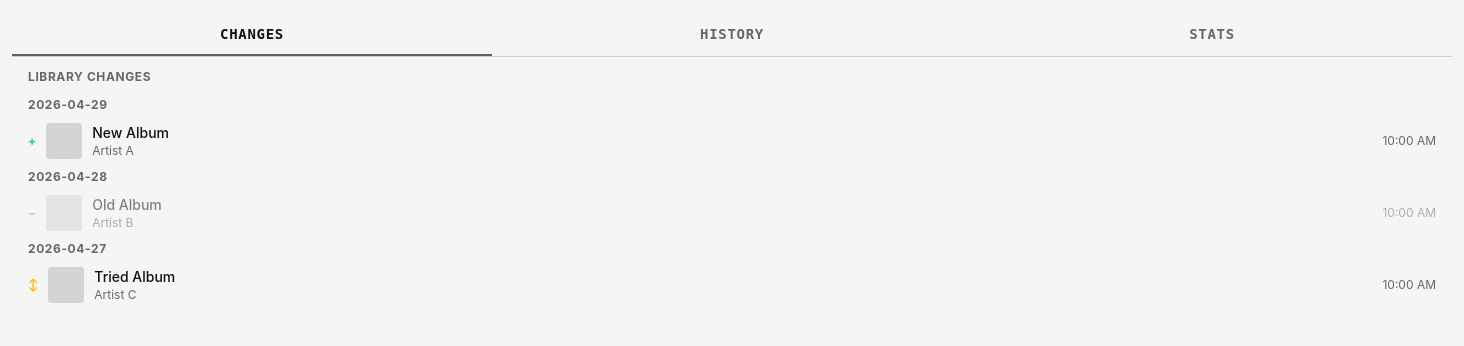
Test case: DigestView › renders tab switcher on narrow viewport
Expected: the tab "Changes" is shown, [12,12,492,56]
Expected: the tab "Stats" is shown, [972,12,1452,56]
Note: Switch to history tab
Step 1. Click the tab "History" → (732, 34), box [492,12,972,56]
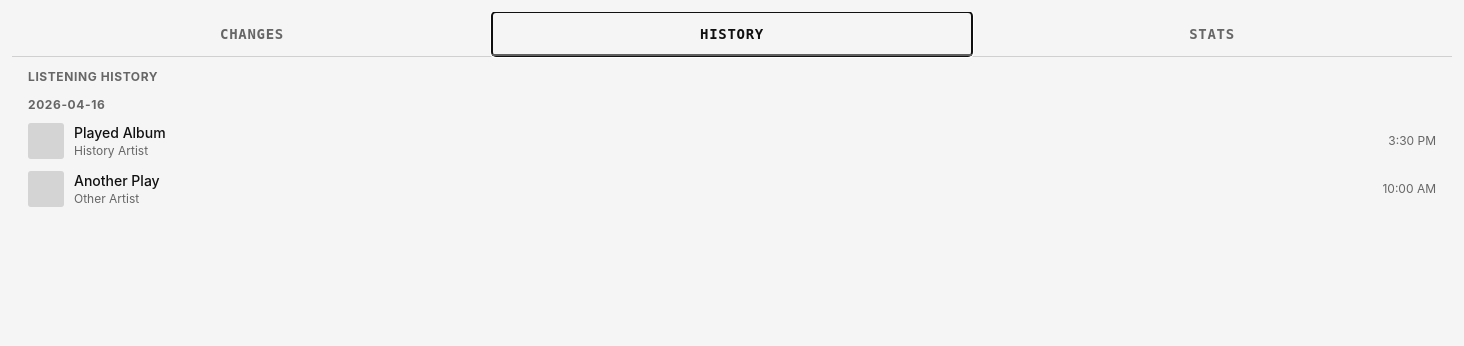
Now the text "Listening History" is shown, box [28,69,158,84]
Note: Switch to stats tab
Step 2. Click the tab "Stats" → (1212, 34), box [972,12,1452,56]
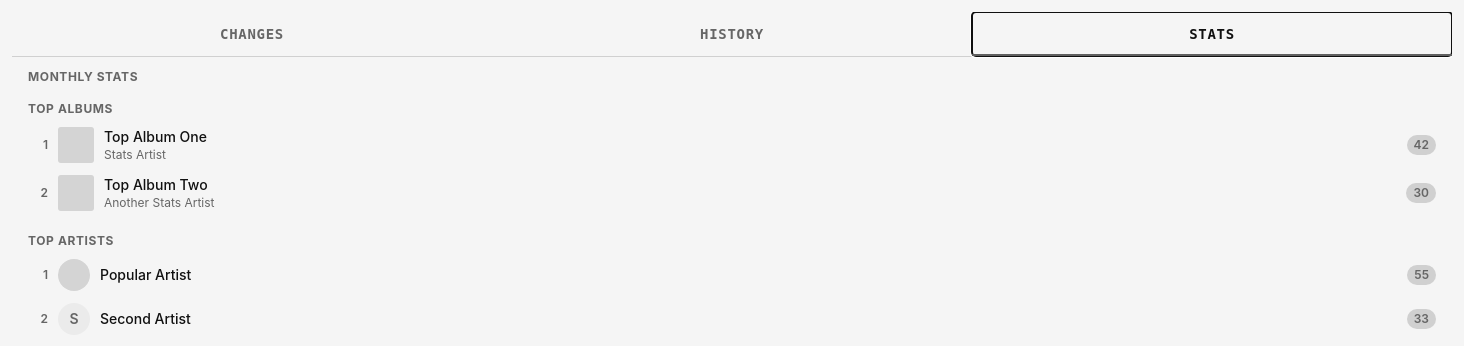
Now the text "Monthly Stats" is shown, box [28,69,138,84]
